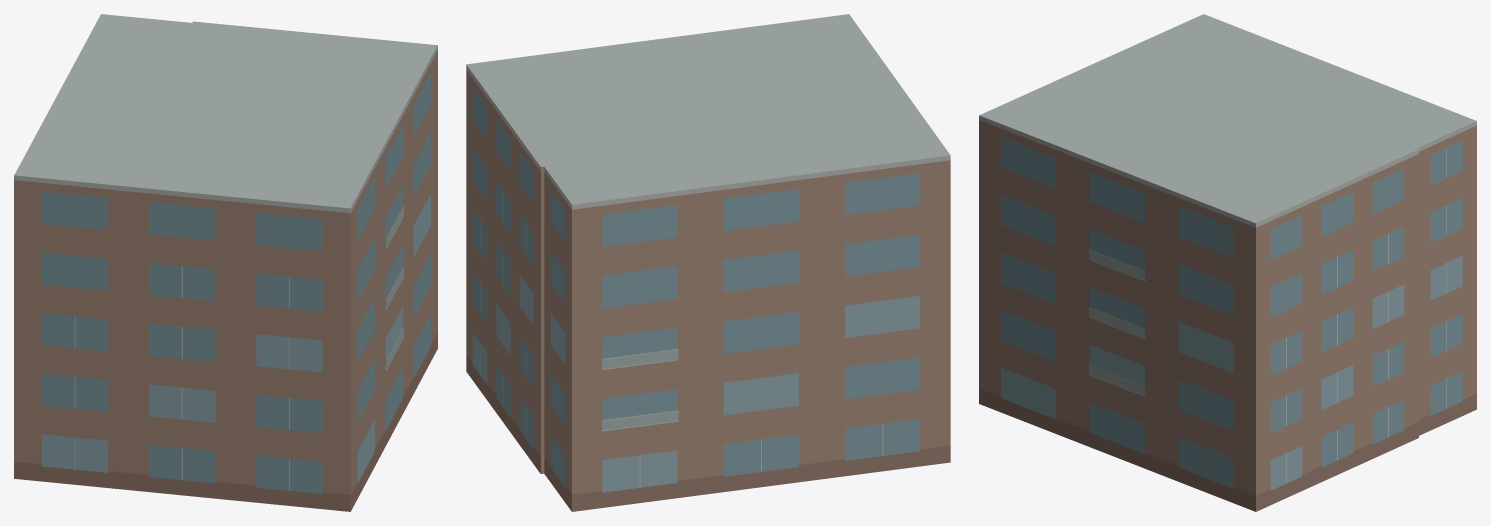
The model's file is survey-upis-32979765.glb.
3 renders of one model, left to right at view 1: azimuth 30°, elevation 25°; view 2: azimuth 150°, elevation 25°; view 3: azimuth 270°, elevation 25°, orthographic. The views are drawn at different scales.
Visible parts, largest first — view 1: survey-upis-32979765.tmp; view 2: survey-upis-32979765.tmp; view 3: survey-upis-32979765.tmp.
Part boxes in pixels (<box>): survey-upis-32979765.tmp: <box>14,14,437,511</box>; survey-upis-32979765.tmp: <box>466,14,950,511</box>; survey-upis-32979765.tmp: <box>979,14,1476,511</box>.
Bounding box in the file's own units: 24.13 × 15.5 × 24.25.
